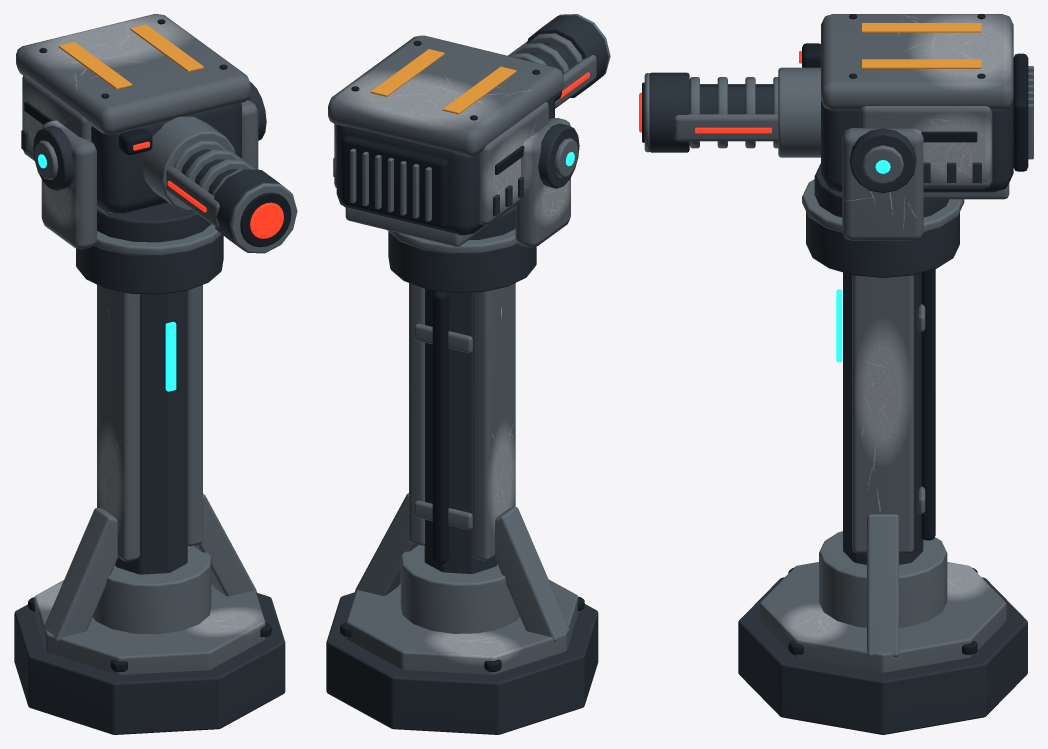
The model's file is turret.glb.
The picture shows the model from 3 angles, left to right: view 1: azimuth 30°, elevation 25°; view 2: azimuth 150°, elevation 25°; view 3: azimuth 270°, elevation 25°; orthographic projection. The views are drawn at different scales.
Parts seen in each view (by area): view 1: TurretBase / Graphite / machined steel, TurretBase / Turret / scratched bare steel, TurretPitch / Turret / scratched bare steel, TurretBase / Exposed steel, TurretPitch / Graphite / machined steel, TurretPitch / Exposed steel, TurretYaw / Turret / scratched bare steel, TurretYaw / Graphite / machined steel, TurretPitch / Recesses, TurretPitch / Safety amber, TurretPitch / Laser emitter, TurretBase / Status cyan (+1 smaller); view 2: TurretBase / Graphite / machined steel, TurretBase / Turret / scratched bare steel, TurretPitch / Turret / scratched bare steel, TurretBase / Exposed steel, TurretPitch / Graphite / machined steel, TurretPitch / Recesses, TurretPitch / Exposed steel, TurretBase / Recesses, TurretYaw / Turret / scratched bare steel, TurretPitch / Safety amber, TurretYaw / Graphite / machined steel, TurretYaw / Exposed steel; view 3: TurretBase / Graphite / machined steel, TurretBase / Turret / scratched bare steel, TurretPitch / Turret / scratched bare steel, TurretBase / Exposed steel, TurretPitch / Graphite / machined steel, TurretPitch / Exposed steel, TurretYaw / Turret / scratched bare steel, TurretBase / Recesses, TurretYaw / Graphite / machined steel, TurretPitch / Recesses, TurretPitch / Safety amber, TurretYaw / Exposed steel (+1 smaller).
Boxes of the visible parts, bbox=[...] form: TurretBase / Graphite / machined steel: bbox=[14, 234, 285, 734]; TurretBase / Turret / scratched bare steel: bbox=[34, 284, 265, 674]; TurretPitch / Turret / scratched bare steel: bbox=[16, 14, 256, 227]; TurretBase / Exposed steel: bbox=[43, 224, 256, 642]; TurretPitch / Graphite / machined steel: bbox=[21, 103, 290, 251]; TurretPitch / Exposed steel: bbox=[97, 116, 297, 253]; TurretYaw / Turret / scratched bare steel: bbox=[41, 100, 258, 249]; TurretYaw / Graphite / machined steel: bbox=[33, 81, 266, 242]; TurretPitch / Recesses: bbox=[24, 19, 291, 247]; TurretPitch / Safety amber: bbox=[58, 24, 203, 89]; TurretPitch / Laser emitter: bbox=[133, 141, 283, 238]; TurretBase / Status cyan: bbox=[165, 321, 176, 391]; TurretBase / Graphite / machined steel: bbox=[326, 231, 598, 734]; TurretBase / Turret / scratched bare steel: bbox=[346, 283, 578, 674]; TurretPitch / Turret / scratched bare steel: bbox=[328, 35, 596, 224]; TurretBase / Exposed steel: bbox=[355, 229, 569, 641]; TurretPitch / Graphite / machined steel: bbox=[333, 15, 608, 235]; TurretPitch / Recesses: bbox=[341, 40, 561, 227]; TurretPitch / Exposed steel: bbox=[345, 14, 610, 246]; TurretBase / Recesses: bbox=[340, 290, 584, 671]; TurretYaw / Turret / scratched bare steel: bbox=[515, 118, 570, 247]; TurretPitch / Safety amber: bbox=[370, 49, 516, 114]; TurretYaw / Graphite / machined steel: bbox=[468, 123, 579, 240]; TurretYaw / Exposed steel: bbox=[554, 138, 578, 177]; TurretBase / Graphite / machined steel: bbox=[738, 212, 1027, 734]; TurretBase / Turret / scratched bare steel: bbox=[759, 275, 1006, 672]; TurretPitch / Turret / scratched bare steel: bbox=[674, 14, 1013, 188]; TurretBase / Exposed steel: bbox=[802, 179, 964, 656]; TurretPitch / Graphite / machined steel: bbox=[649, 72, 1013, 192]; TurretPitch / Exposed steel: bbox=[644, 66, 1033, 199]; TurretYaw / Turret / scratched bare steel: bbox=[842, 128, 923, 240]; TurretBase / Recesses: bbox=[788, 269, 977, 654]; TurretYaw / Graphite / machined steel: bbox=[814, 128, 949, 217]; TurretPitch / Recesses: bbox=[642, 14, 1028, 171]; TurretPitch / Safety amber: bbox=[861, 23, 981, 68]; TurretYaw / Exposed steel: bbox=[862, 145, 903, 184].
Size of the model in its own units: 0.6773 by 1.63 by 0.923.
Materials: 7 (1 with a texture image).
